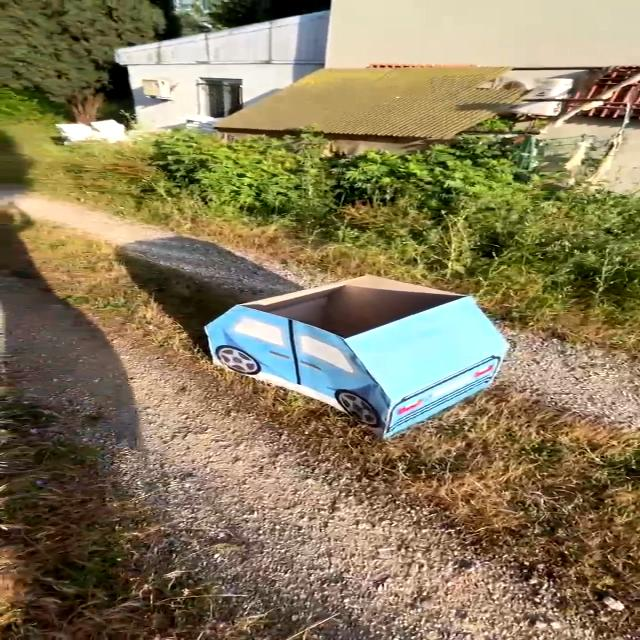blue_car: (137, 251, 557, 447)
